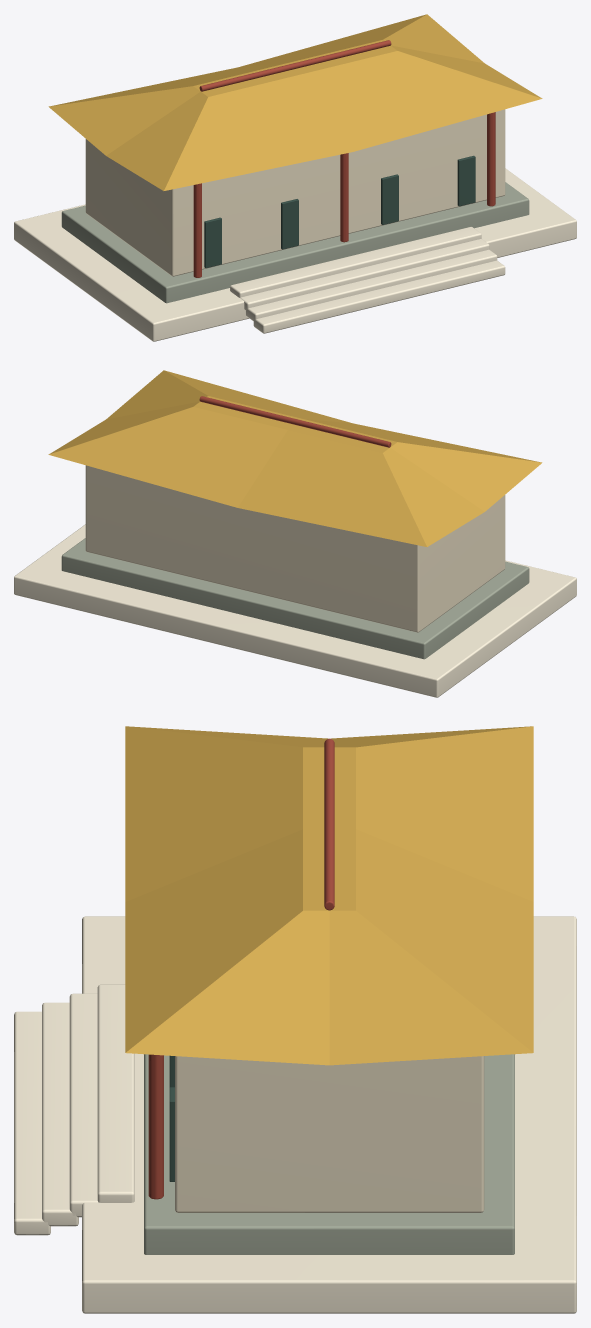
The model's file is museum-before.glb.
3 views of the same model, one above another, from view 1: azimuth 30°, elevation 25°; view 2: azimuth 150°, elevation 25°; view 3: azimuth 270°, elevation 25° (orthographic). The views are drawn at different scales.
Visible parts, largest first — view 1: main museum hall roof, main museum hall body, wide terrace, main museum hall plinth, front stairs, front stairs.003, front stairs.001, front stairs.002, main museum hall roof ridge, main museum hall door.003, main museum hall door.002, main museum hall door (+4 smaller); view 2: main museum hall roof, main museum hall body, wide terrace, main museum hall plinth, main museum hall roof ridge; view 3: main museum hall roof, wide terrace, main museum hall body, main museum hall plinth, front stairs.003, front stairs, front stairs.001, front stairs.002, main museum hall pillar.002, main museum hall roof ridge.
Part boxes in pixels (left/top/right/bottom): main museum hall roof: left=48, top=14, right=542, bottom=190; main museum hall body: left=85, top=109, right=505, bottom=276; wide terrace: left=14, top=168, right=576, bottom=341; main museum hall plinth: left=61, top=182, right=529, bottom=303; front stairs: left=253, top=260, right=505, bottom=333; front stairs.003: left=230, top=227, right=481, bottom=297; front stairs.001: left=245, top=249, right=497, bottom=320; front stairs.002: left=240, top=239, right=489, bottom=310; main museum hall roof ridge: left=199, top=40, right=391, bottom=91; main museum hall door.003: left=457, top=155, right=475, bottom=206; main museum hall door.002: left=381, top=174, right=398, bottom=224; main museum hall door: left=204, top=217, right=221, bottom=267; main museum hall roof: left=48, top=370, right=542, bottom=546; main museum hall body: left=85, top=465, right=505, bottom=632; wide terrace: left=14, top=524, right=576, bottom=697; main museum hall plinth: left=61, top=538, right=529, bottom=659; main museum hall roof ridge: left=199, top=396, right=391, bottom=447; main museum hall roof: left=125, top=726, right=533, bottom=1065; wide terrace: left=82, top=916, right=576, bottom=1313; main museum hall body: left=175, top=1056, right=484, bottom=1212; main museum hall plinth: left=144, top=1054, right=514, bottom=1254; front stairs.003: left=97, top=984, right=134, bottom=1202; front stairs: left=14, top=1011, right=50, bottom=1235; front stairs.001: left=42, top=1002, right=78, bottom=1226; front stairs.002: left=69, top=993, right=98, bottom=1217; main museum hall pillar.002: left=148, top=1054, right=163, bottom=1199; main museum hall roof ridge: left=324, top=738, right=334, bottom=910.
Bounding box in the file's own units: 14 × 5.57 × 9.1.
